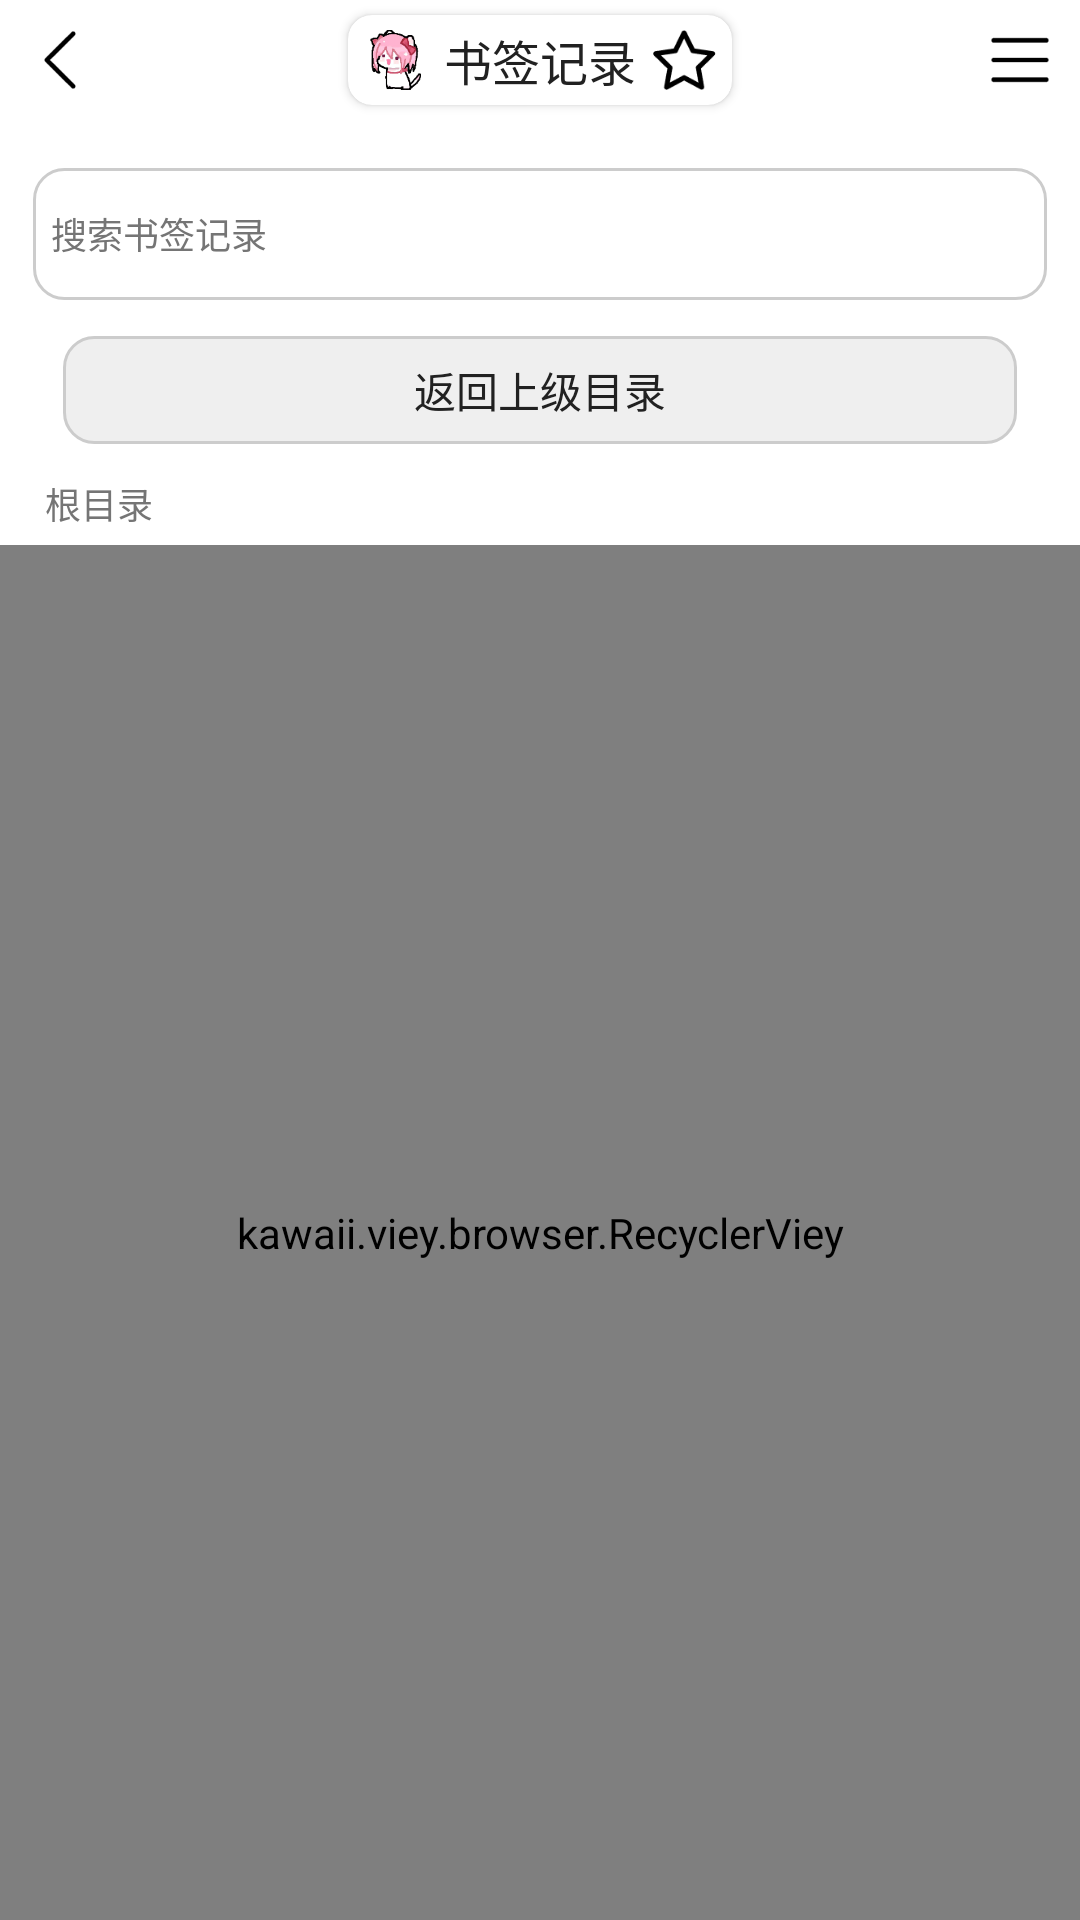

Icons on this 1080px x 1920px Android screen, each with its box as (x1,y1,x2,y2):
arrow back: (44,31,76,89)
bookmark: (653,18,732,105)
menu: (991,37,1049,83)
